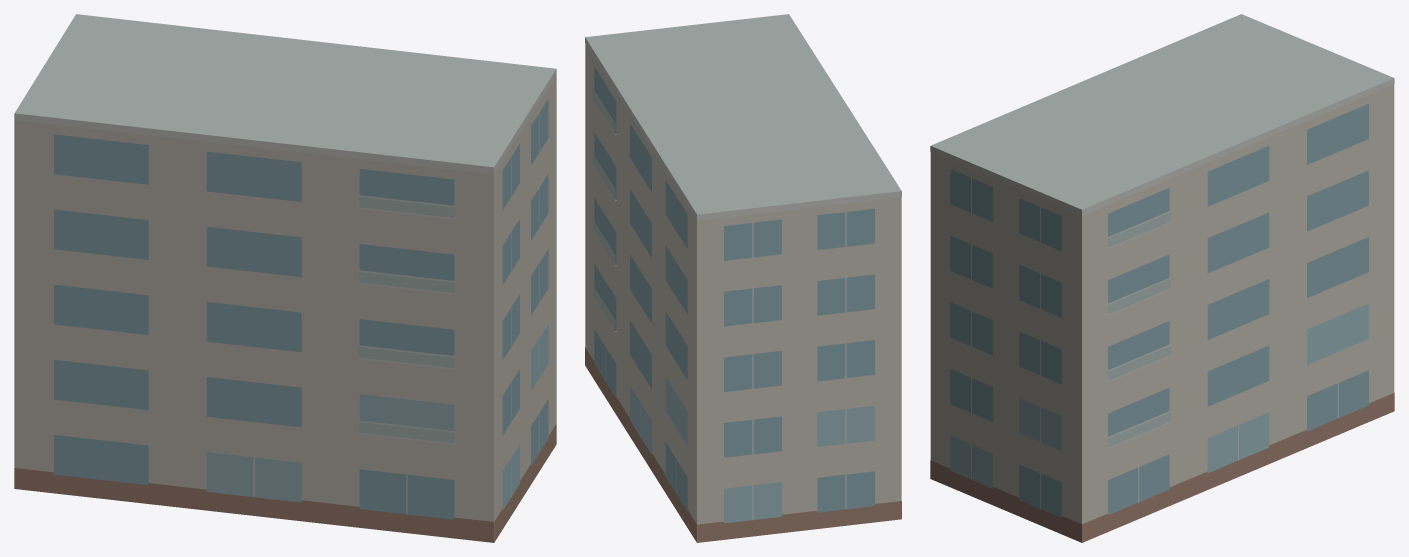
Rendered from survey-upis-32596510.glb.
3 views of the same model, side by side, from view 1: azimuth 30°, elevation 25°; view 2: azimuth 150°, elevation 25°; view 3: azimuth 270°, elevation 25° (orthographic). The views are drawn at different scales.
Parts seen in each view (by area): view 1: survey-upis-32596510.tmp; view 2: survey-upis-32596510.tmp; view 3: survey-upis-32596510.tmp.
Part boxes in pixels (bbox=[...]): survey-upis-32596510.tmp: bbox=[14, 14, 556, 542]; survey-upis-32596510.tmp: bbox=[585, 14, 901, 542]; survey-upis-32596510.tmp: bbox=[930, 14, 1394, 542].
Size of the model in its own units: 16.77 by 13.3 by 16.8.
